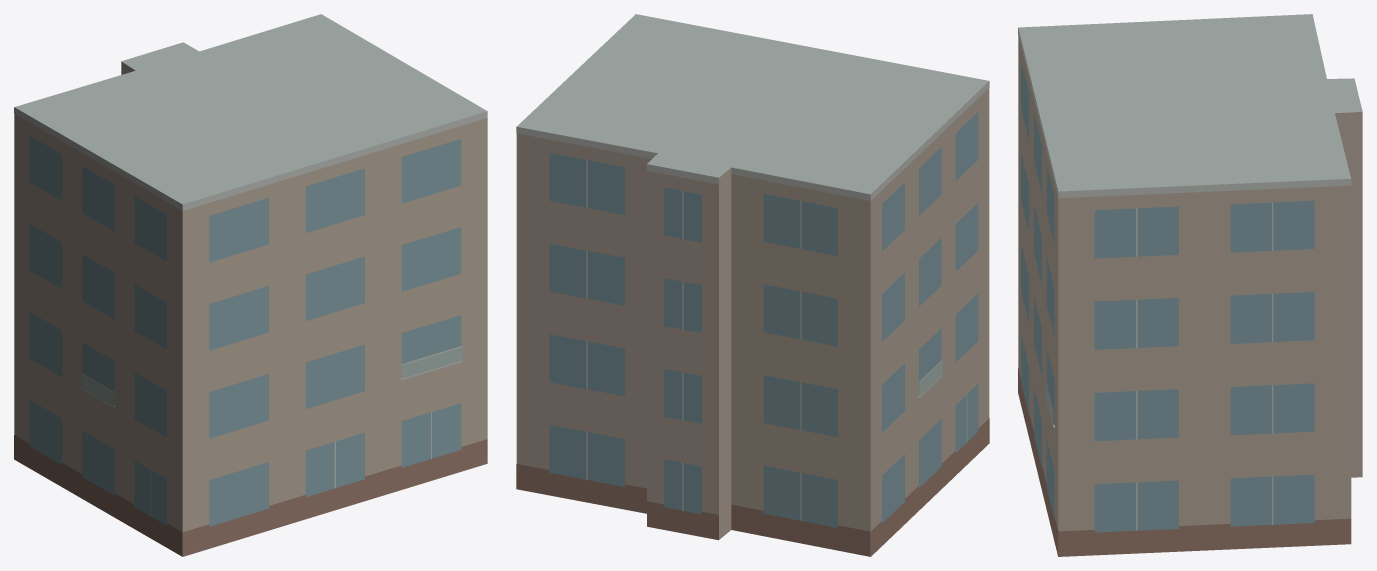
Rendered from survey-upis-32698910.glb.
3 views of the same model, side by side, from view 1: azimuth 30°, elevation 25°; view 2: azimuth 150°, elevation 25°; view 3: azimuth 270°, elevation 25° (orthographic). The views are drawn at different scales.
Parts seen in each view (by area): view 1: survey-upis-32698910.tmp; view 2: survey-upis-32698910.tmp; view 3: survey-upis-32698910.tmp.
Part boxes in pixels (x1=…): survey-upis-32698910.tmp: x1=14, y1=14, x2=487, y2=556; survey-upis-32698910.tmp: x1=516, y1=14, x2=989, y2=556; survey-upis-32698910.tmp: x1=1018, y1=14, x2=1362, y2=556.
Size of the model in its own units: 13.79 by 13.22 by 11.31.
